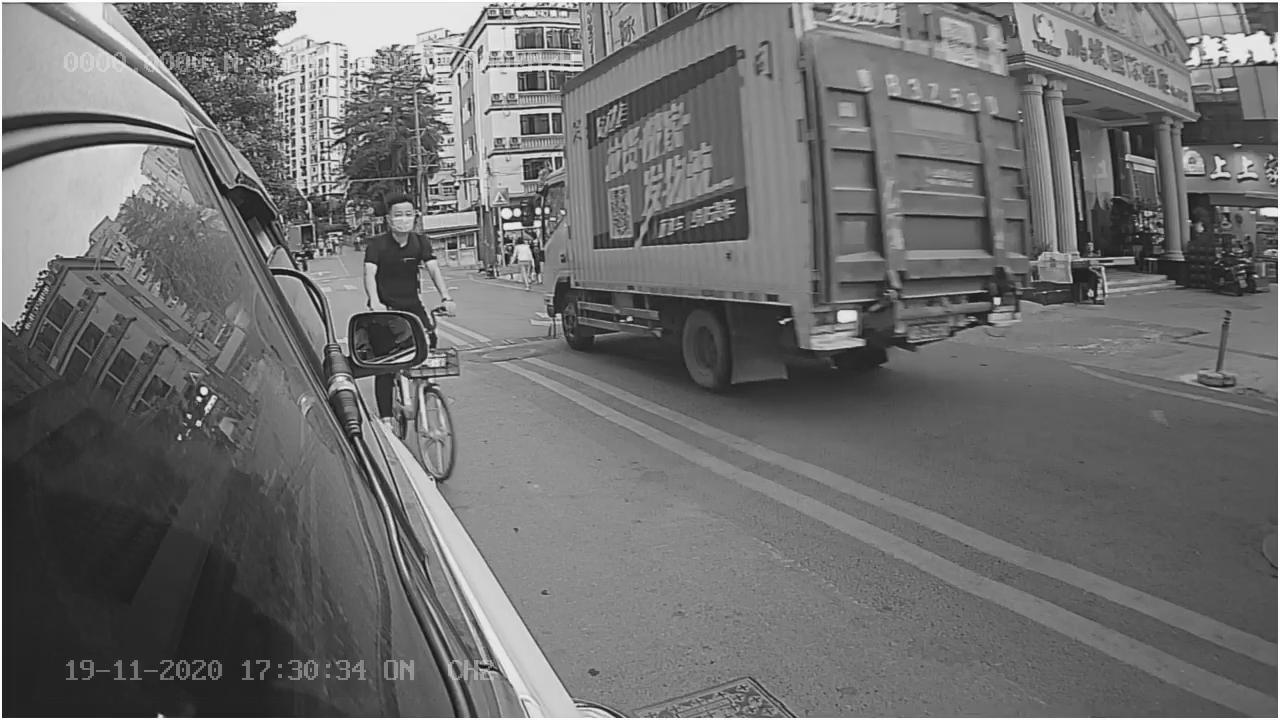person: (358, 196, 450, 308)
